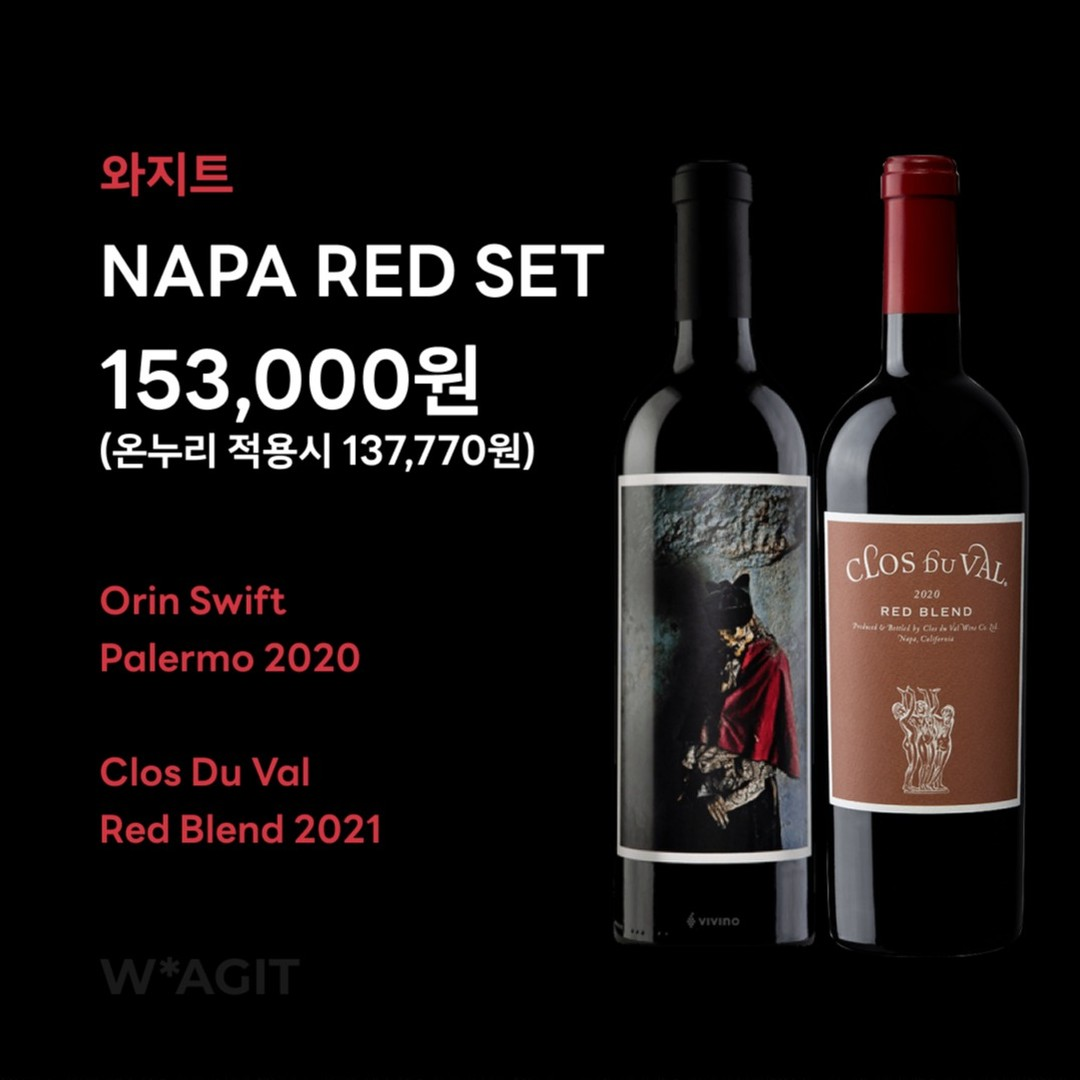alcohol: (605, 147, 823, 965), (821, 147, 1036, 968)
